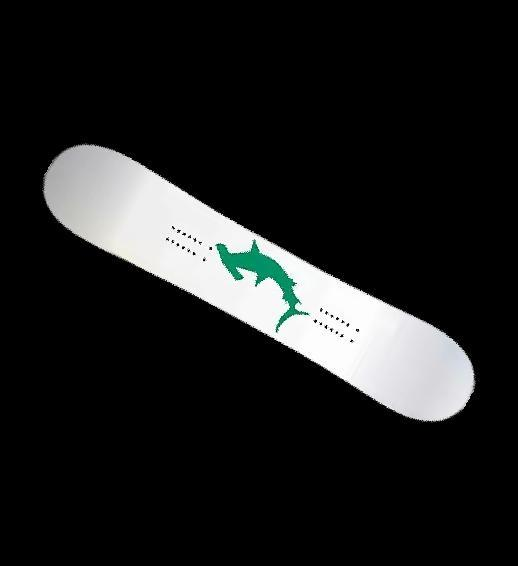Snowboard: (41, 142, 476, 423)
